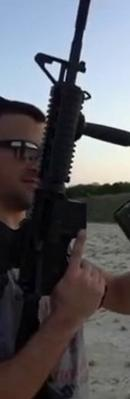gun: (1, 1, 130, 399)
